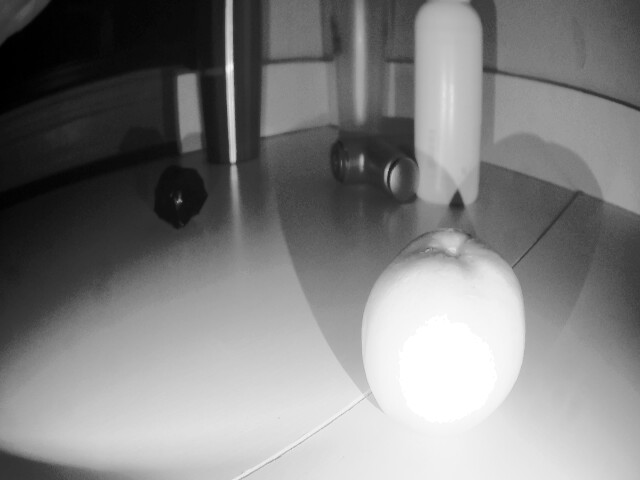silver: (147, 157, 218, 244)
